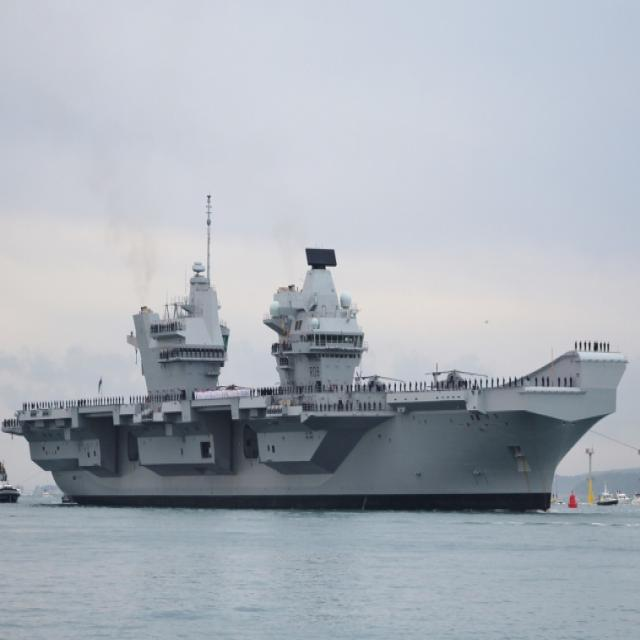Portanaves: (3, 188, 632, 510)
